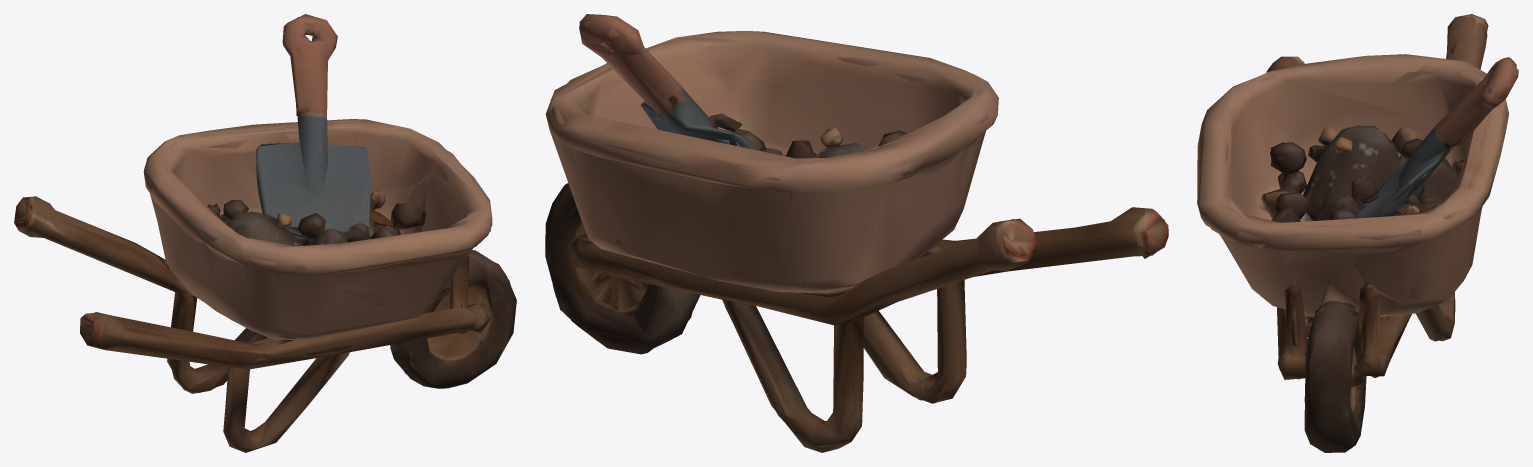
File: wheelbarrow.glb
The picture shows the model from 3 angles, left to right: view 1: azimuth 30°, elevation 25°; view 2: azimuth 150°, elevation 25°; view 3: azimuth 270°, elevation 25°; orthographic projection. The views are drawn at different scales.
Bounding box in the file's own units: 1 × 0.6981 × 0.5797.
1 material, 1 textured.
